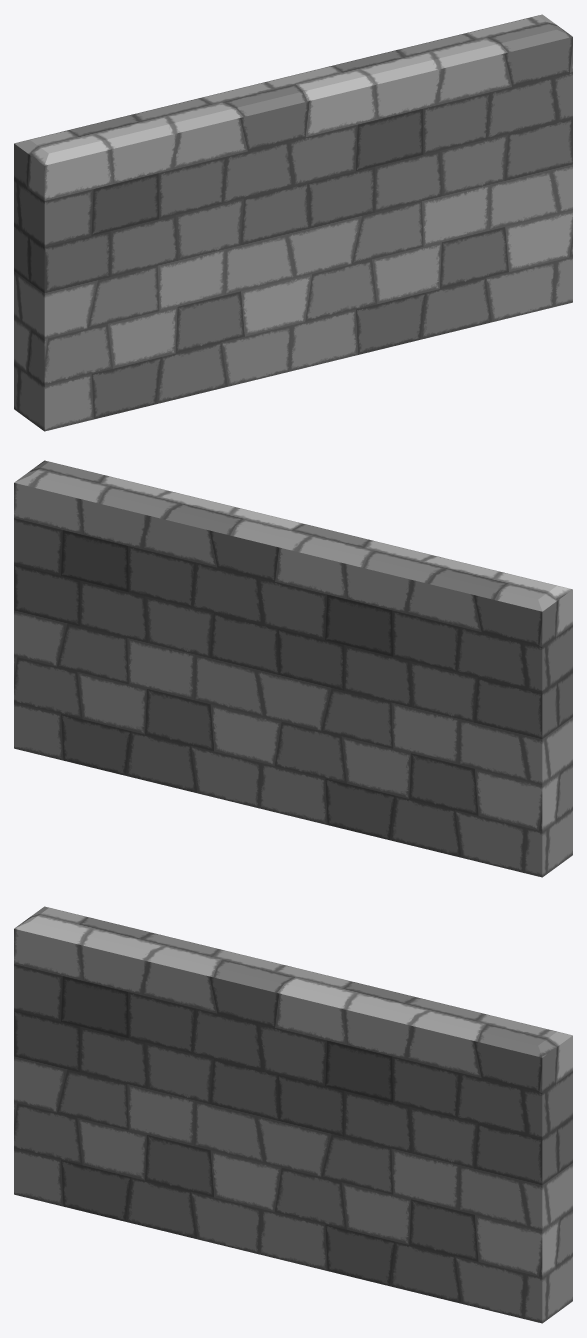
File: wall.glb
3 renders of one model, top to bottom at view 1: azimuth 30°, elevation 25°; view 2: azimuth 150°, elevation 25°; view 3: azimuth 330°, elevation 25°, orthographic.
Parts seen in each view (by area): view 1: Wall-convcol; view 2: Wall-convcol; view 3: Wall-convcol.
Part boxes in pixels (x1,y1,x2,y2): Wall-convcol: (14, 14, 572, 431); Wall-convcol: (14, 460, 572, 877); Wall-convcol: (14, 906, 572, 1323).
Bounding box in the file's own units: 2 × 0.9804 × 0.2.
1 material, 1 textured.
